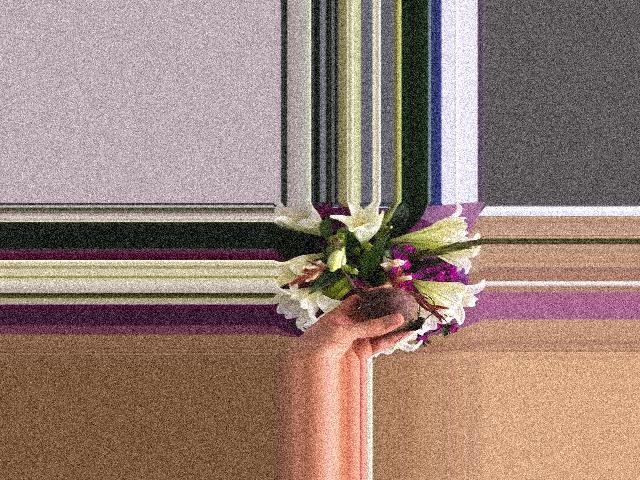beet: (341, 256, 435, 332)
